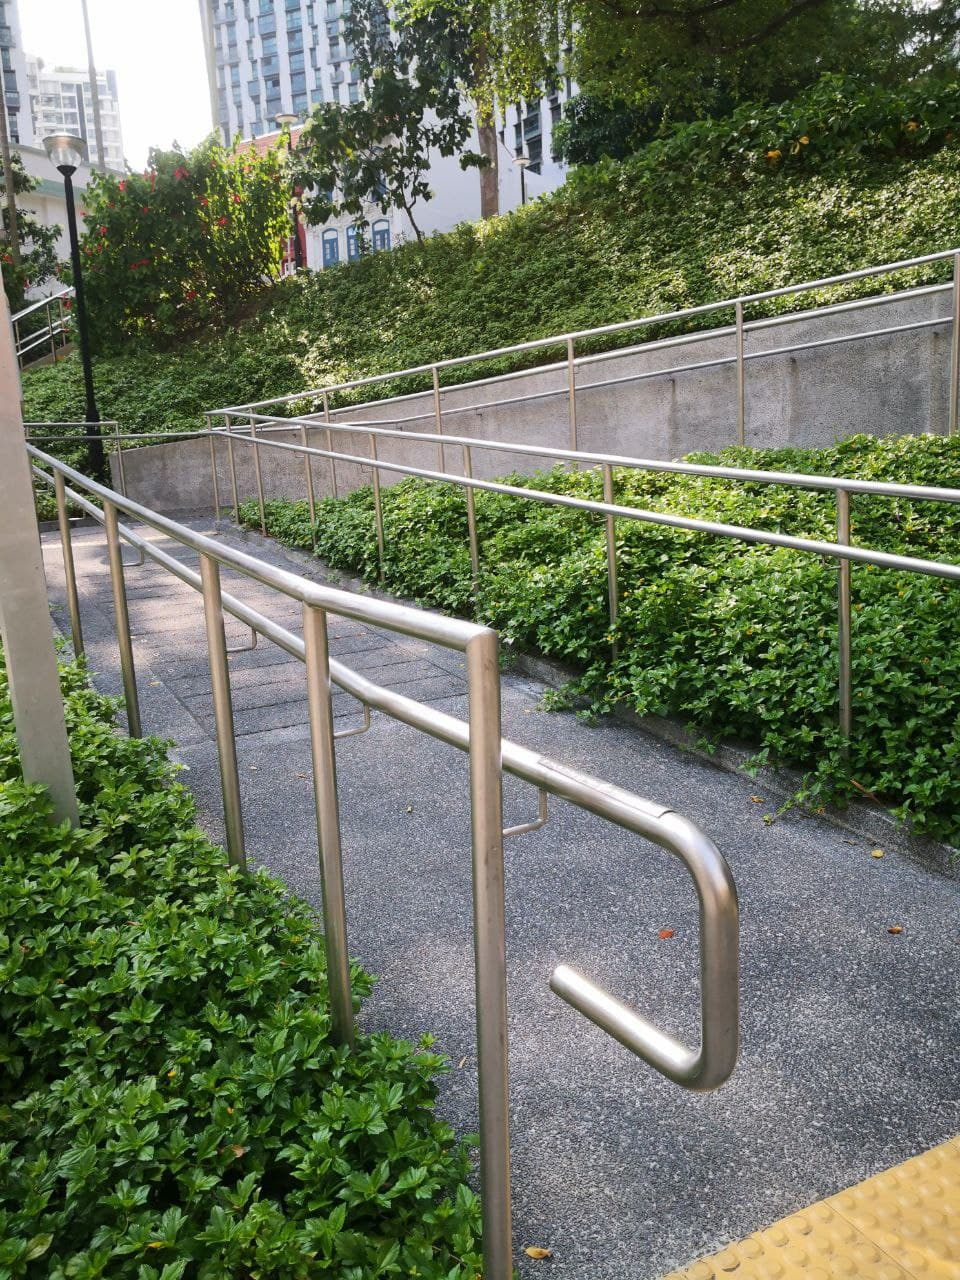slopes: (6, 237, 960, 1277)
